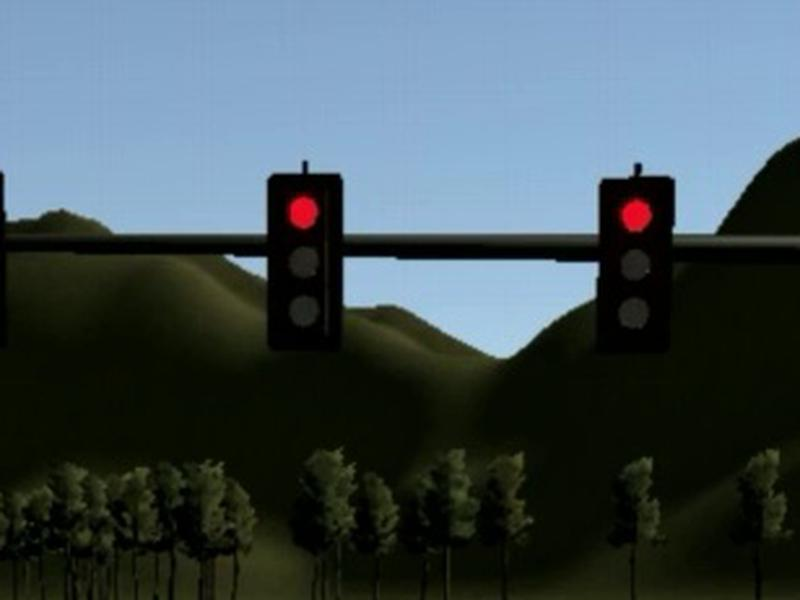Red: (597, 177, 675, 347), (268, 175, 342, 350)
